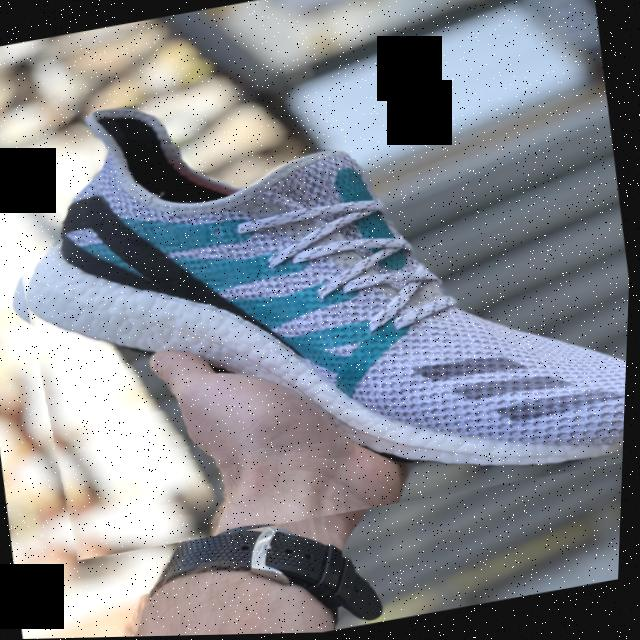shoe: (0, 15, 639, 568)
